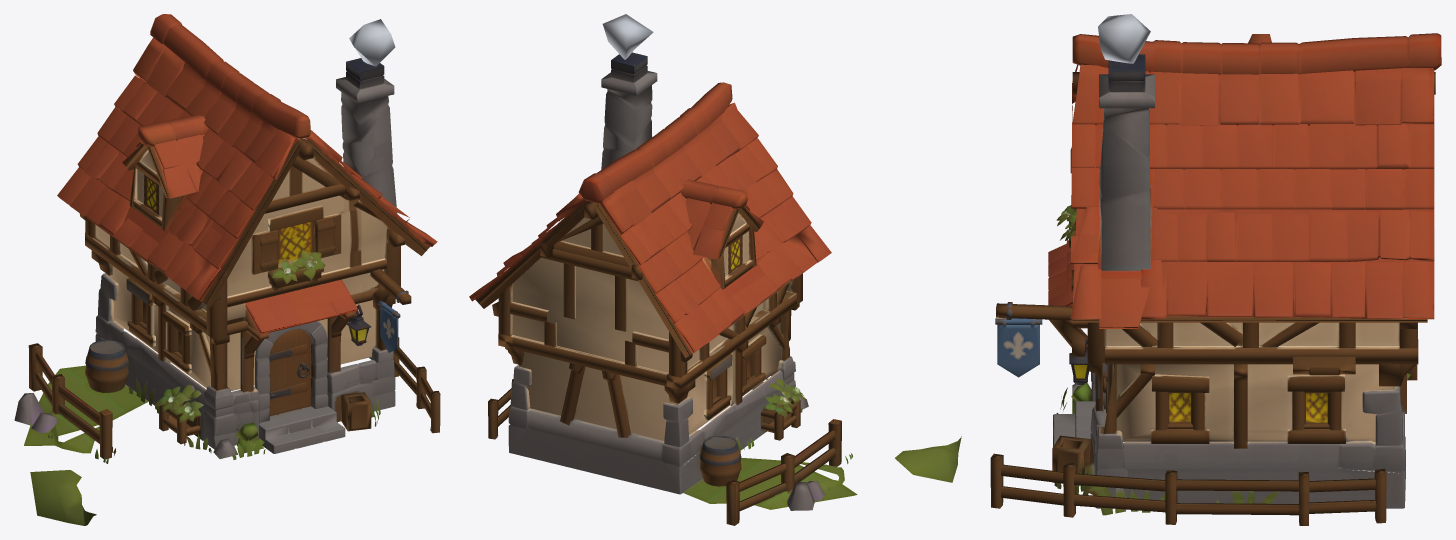
File: cottage-new.glb
The picture shows the model from 3 angles, left to right: view 1: azimuth 30°, elevation 25°; view 2: azimuth 150°, elevation 25°; view 3: azimuth 270°, elevation 25°; orthographic projection. The views are drawn at different scales.
Visible parts, largest first — view 1: d8b6604a_7fe5_4178_970b_bb80a6846af2; view 2: d8b6604a_7fe5_4178_970b_bb80a6846af2; view 3: d8b6604a_7fe5_4178_970b_bb80a6846af2.
Part boxes in pixels (x1,y1,x2,y2): d8b6604a_7fe5_4178_970b_bb80a6846af2: (14,14,440,525); d8b6604a_7fe5_4178_970b_bb80a6846af2: (469,14,961,525); d8b6604a_7fe5_4178_970b_bb80a6846af2: (990,14,1441,525).
Size of the model in its own units: 0.9995 by 0.9976 by 0.7837.
1 material, 1 textured.
